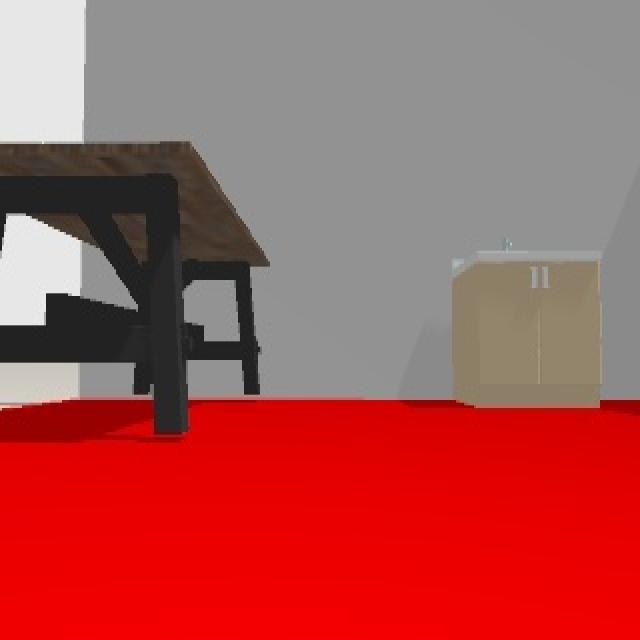dining: (2, 141, 272, 440)
